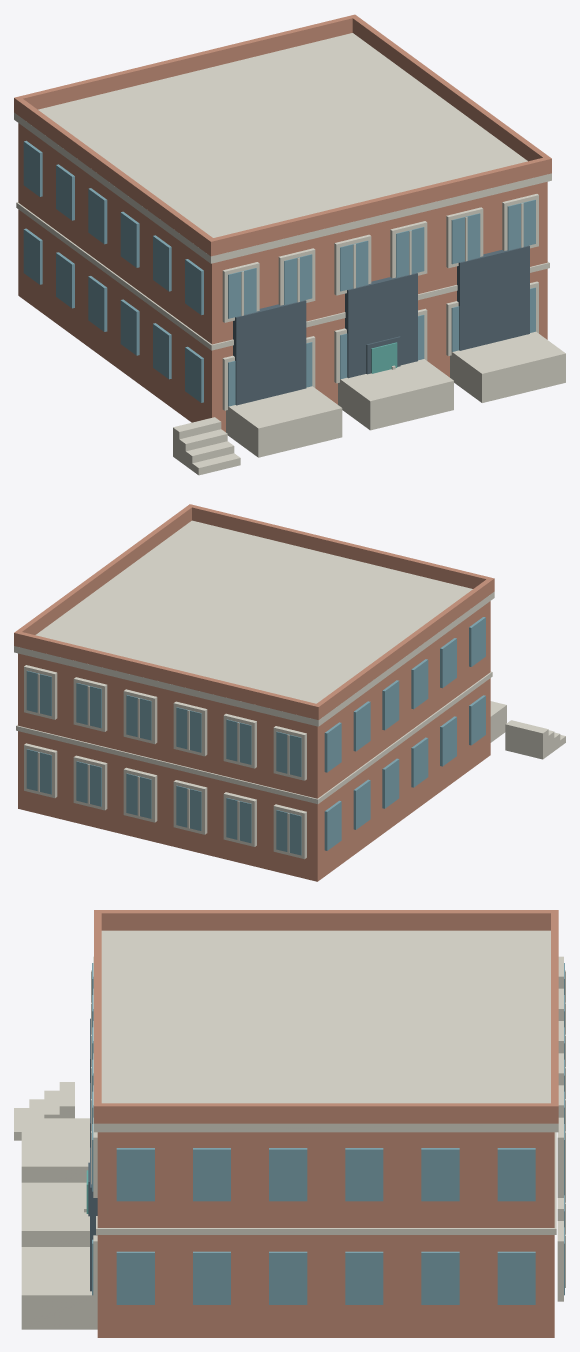
Rendered from voxel-city-districts-loading-warehouse-a2777253__24779.glb.
3 views of the same model, one above another, from view 1: azimuth 30°, elevation 25°; view 2: azimuth 150°, elevation 25°; view 3: azimuth 270°, elevation 25° (orthographic). The views are drawn at different scales.
Visible parts, largest first — view 1: loading-warehouse-concrete, loading-warehouse-brick, loading-warehouse-glass, loading-warehouse-dark, loading-warehouse-accent; view 2: loading-warehouse-concrete, loading-warehouse-brick, loading-warehouse-glass; view 3: loading-warehouse-concrete, loading-warehouse-brick, loading-warehouse-glass, loading-warehouse-dark.
Boxes of the visible parts, bbox=[...] form: loading-warehouse-concrete: bbox=[14, 33, 565, 475]; loading-warehouse-brick: bbox=[14, 14, 551, 432]; loading-warehouse-glass: bbox=[23, 140, 535, 406]; loading-warehouse-dark: bbox=[233, 245, 529, 405]; loading-warehouse-accent: bbox=[371, 342, 397, 373]; loading-warehouse-concrete: bbox=[14, 520, 565, 859]; loading-warehouse-brick: bbox=[14, 504, 494, 881]; loading-warehouse-glass: bbox=[26, 617, 485, 855]; loading-warehouse-concrete: bbox=[14, 930, 565, 1329]; loading-warehouse-brick: bbox=[94, 910, 558, 1337]; loading-warehouse-glass: bbox=[92, 963, 564, 1304]; loading-warehouse-dark: bbox=[88, 1018, 97, 1291].
Size of the model in its own units: 13.85 by 6.75 by 14.49.
